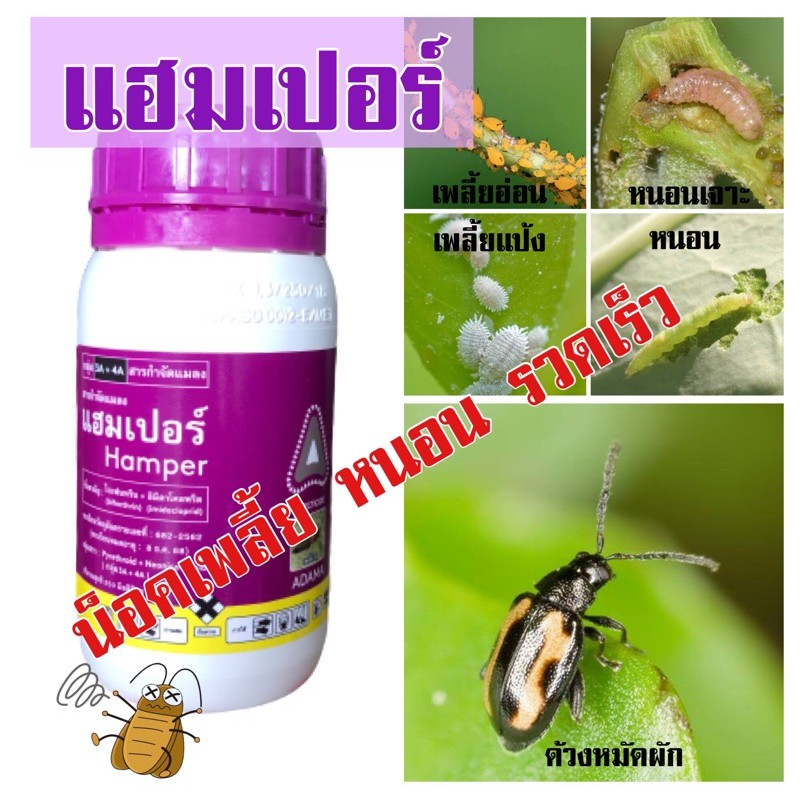Insecticide: (70, 97, 344, 729)
